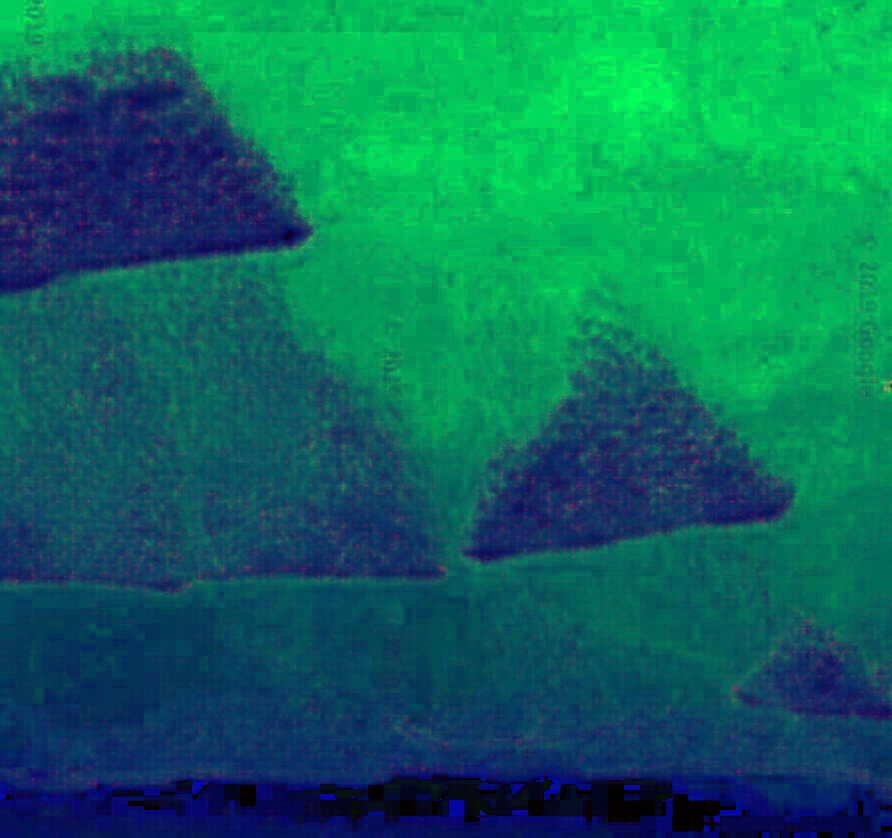rip_current: (300, 240, 610, 610)
